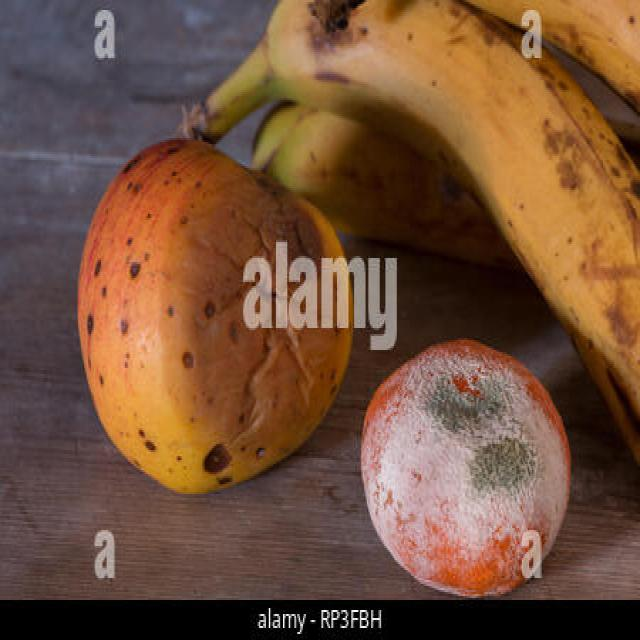Apple: (79, 140, 351, 493)
Banana: (190, 0, 639, 463)
